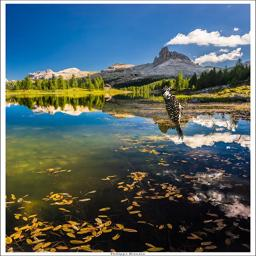Woodpecker: (161, 86, 189, 141)
